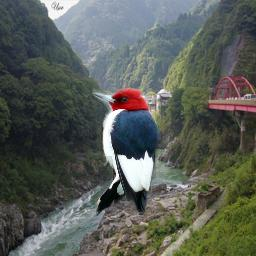Woodpecker: (92, 84, 162, 220)
